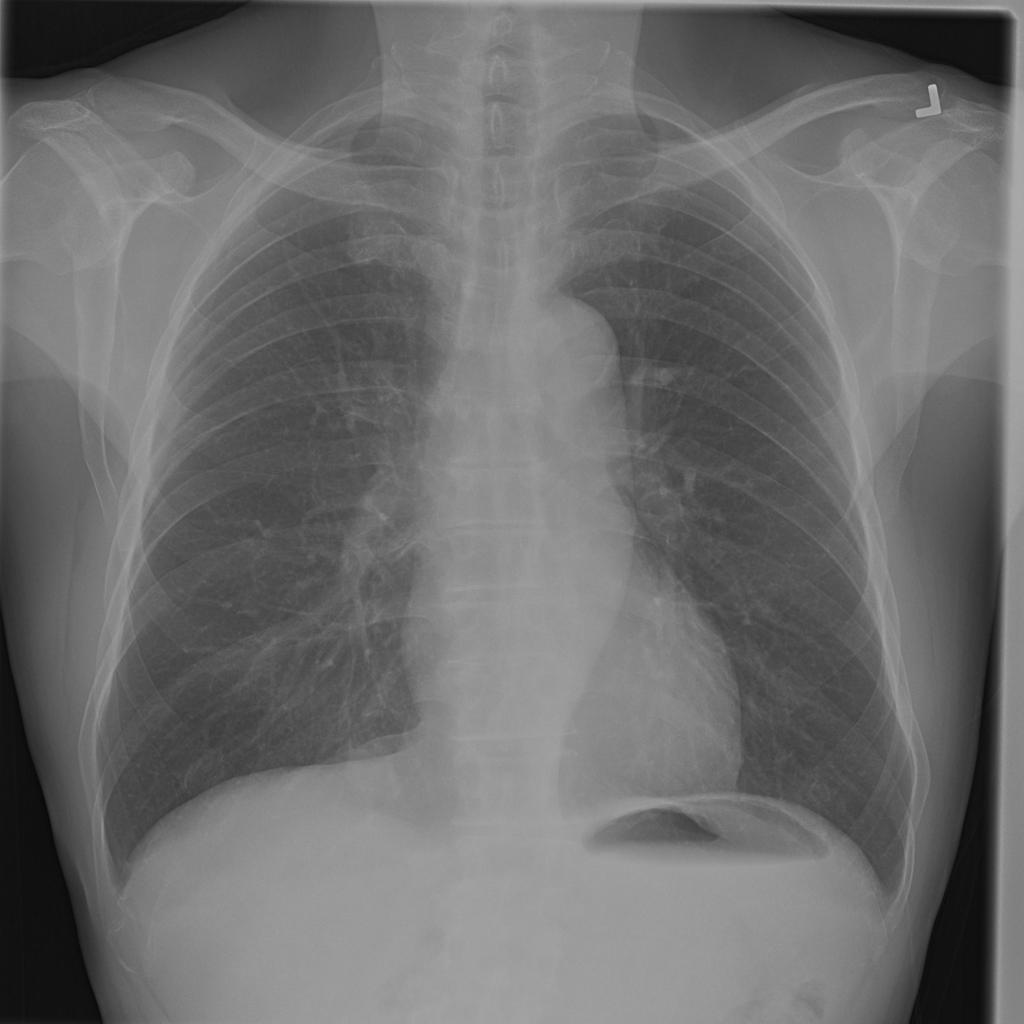nodule: (320, 723, 427, 822)
